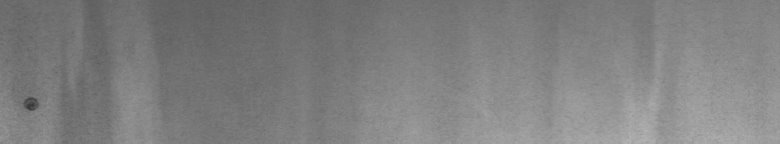fi: (18, 88, 44, 120)
